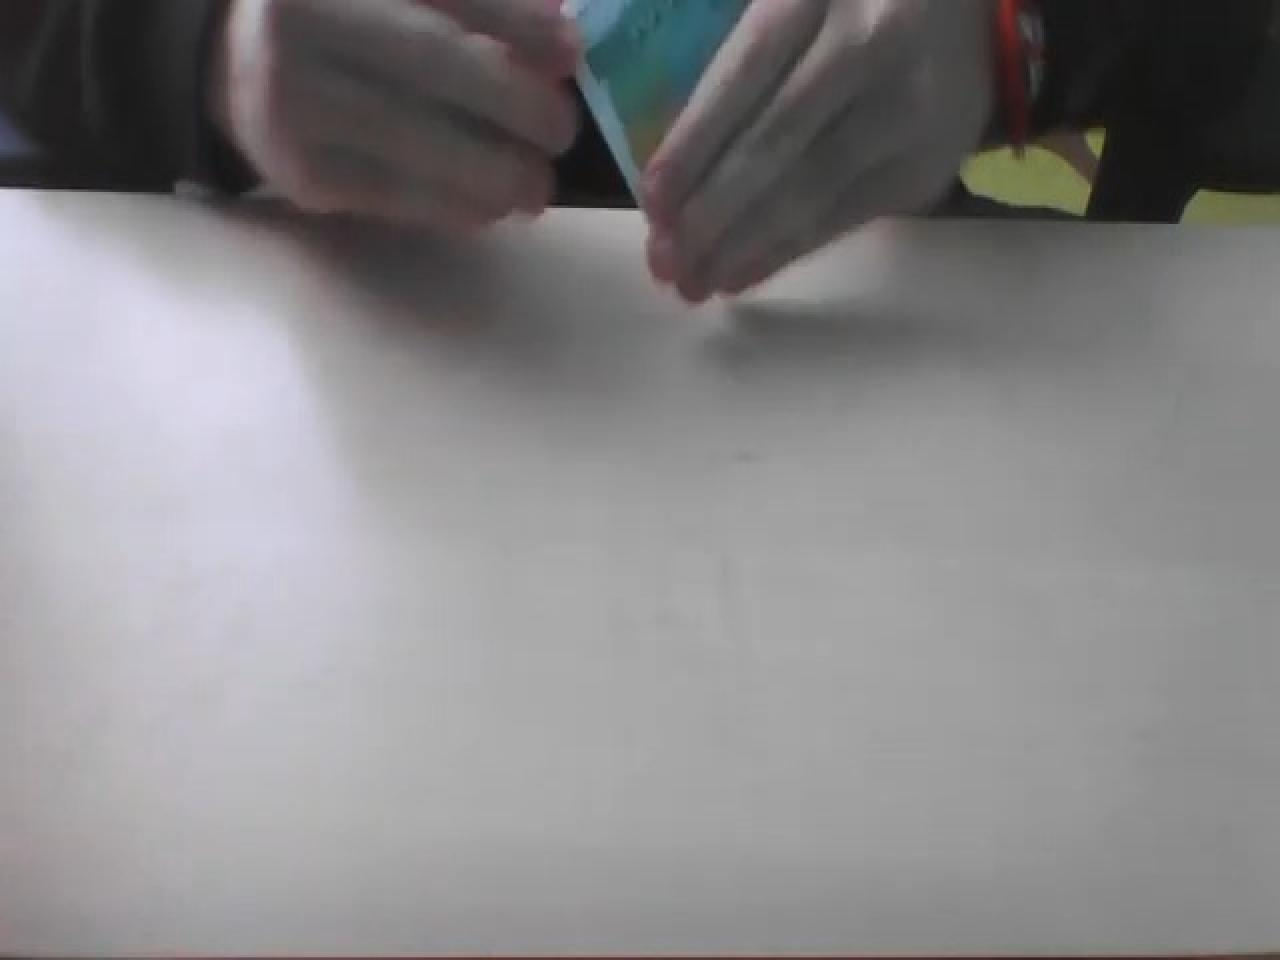100leva: (546, 0, 750, 211)
